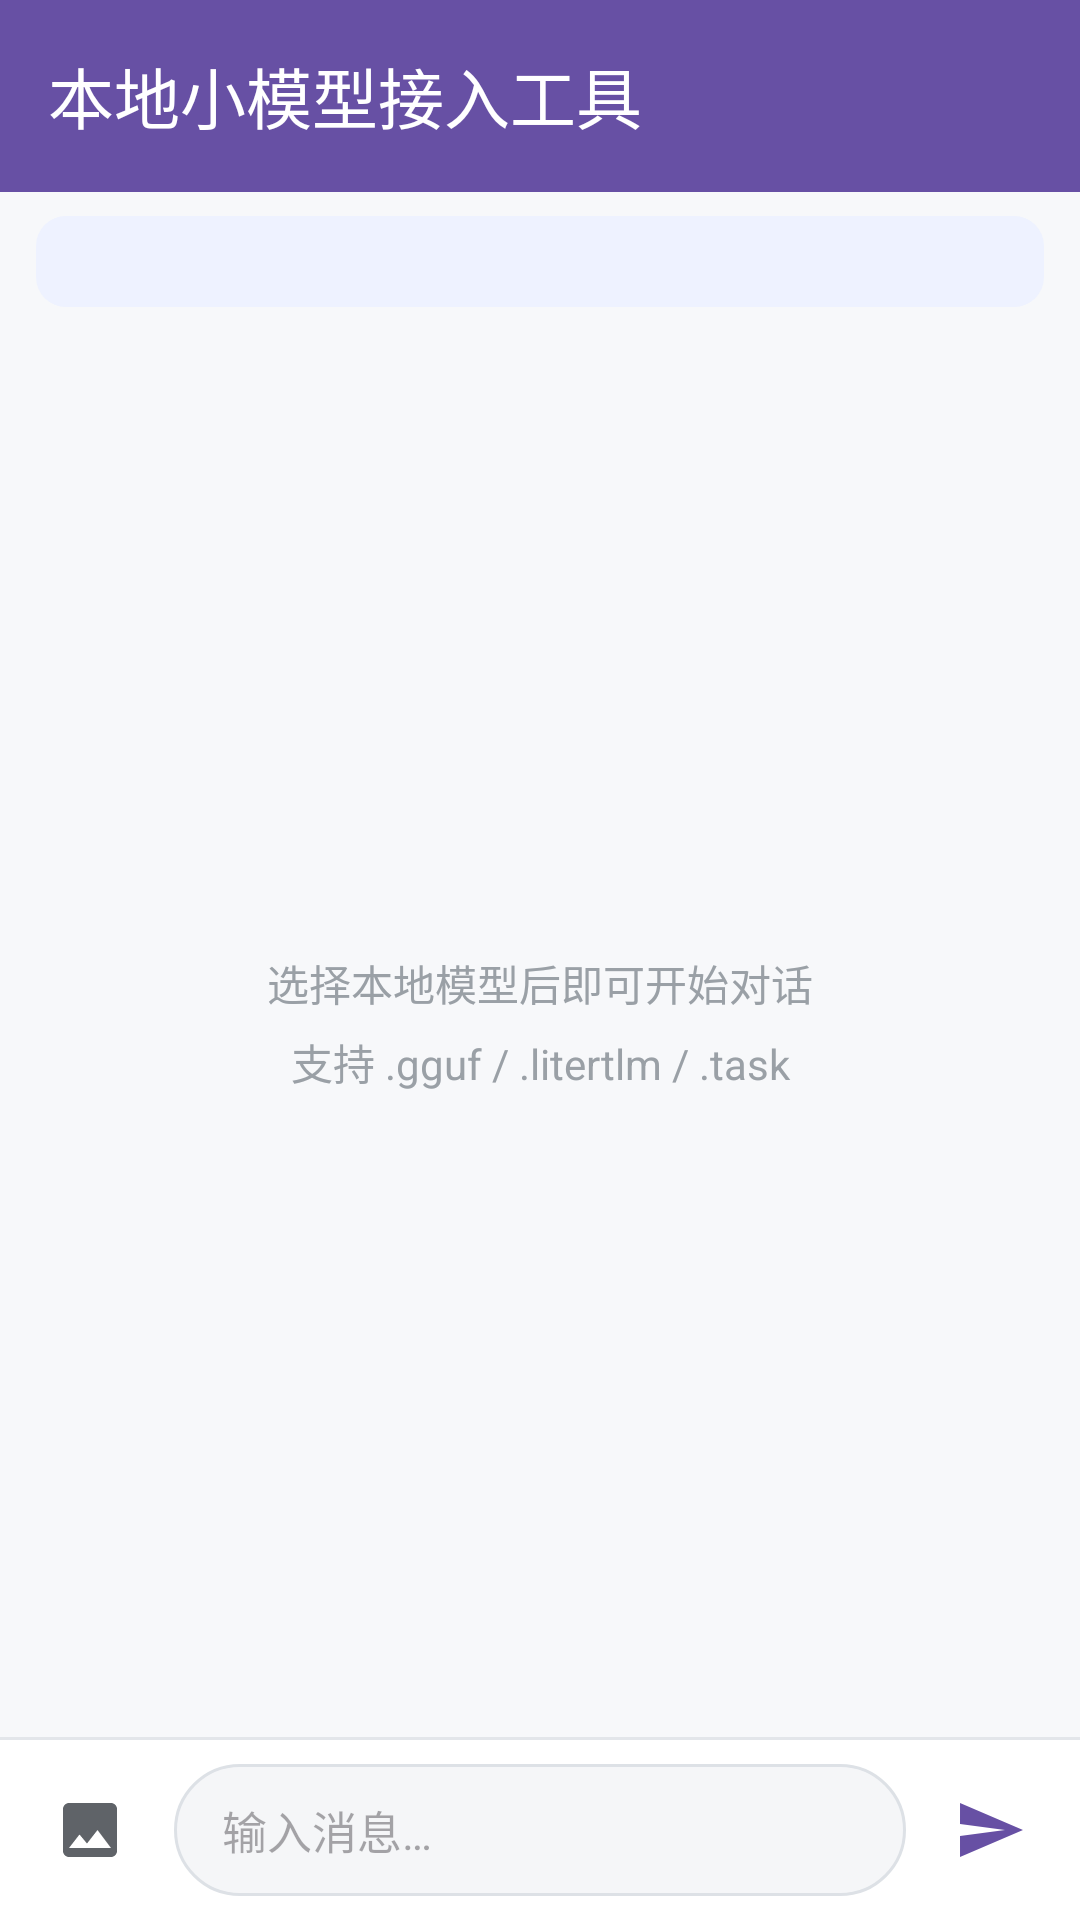

Named icons in this screenshot (1080*1920) and their centers, point (x, y):
发送: point (991, 1830)
添加图片: point (90, 1830)
